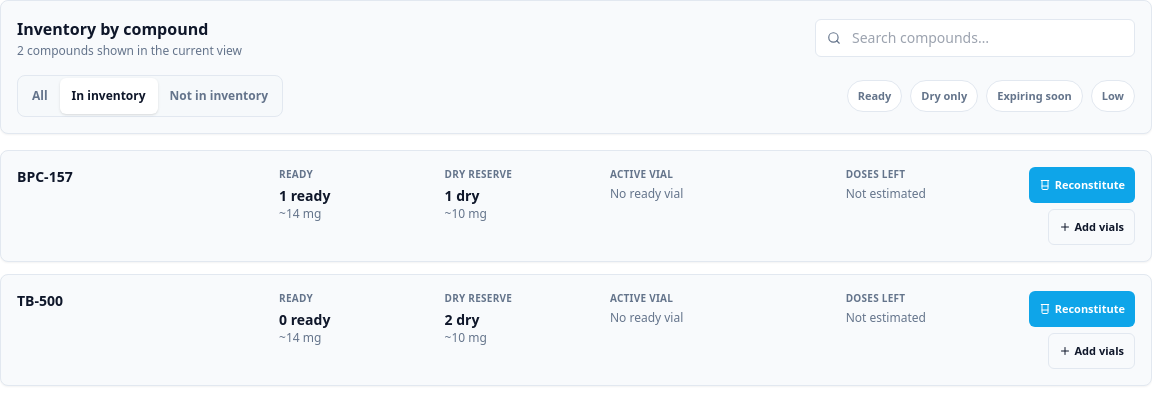
CompoundInventoryView › "Dry only" chip keeps compounds with dry but no reconstituted
The width and height of the screenshot is (1152, 403).
Step 1. Click the button "Dry only" → (944,96), box [910,80,978,112]
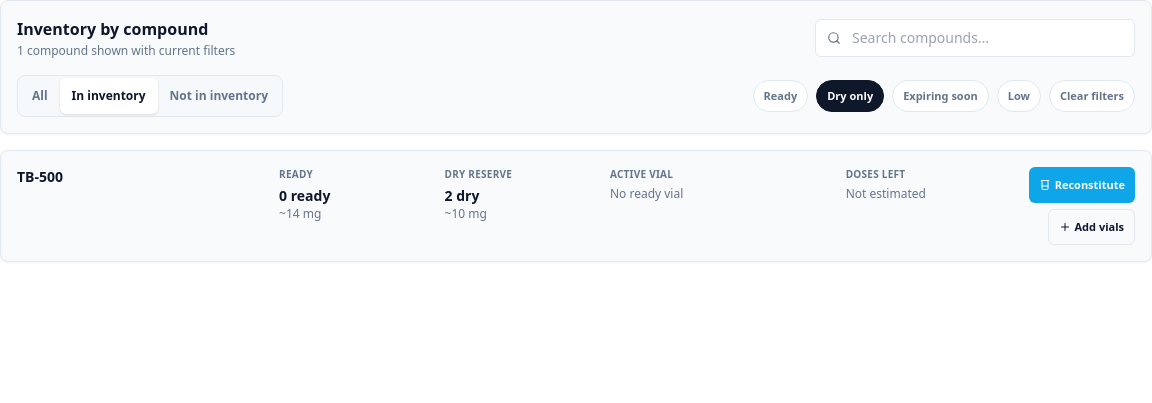
Expected: the heading "TB-500" is shown, [17,167,63,186]
Now the link "BPC-157" is gone
